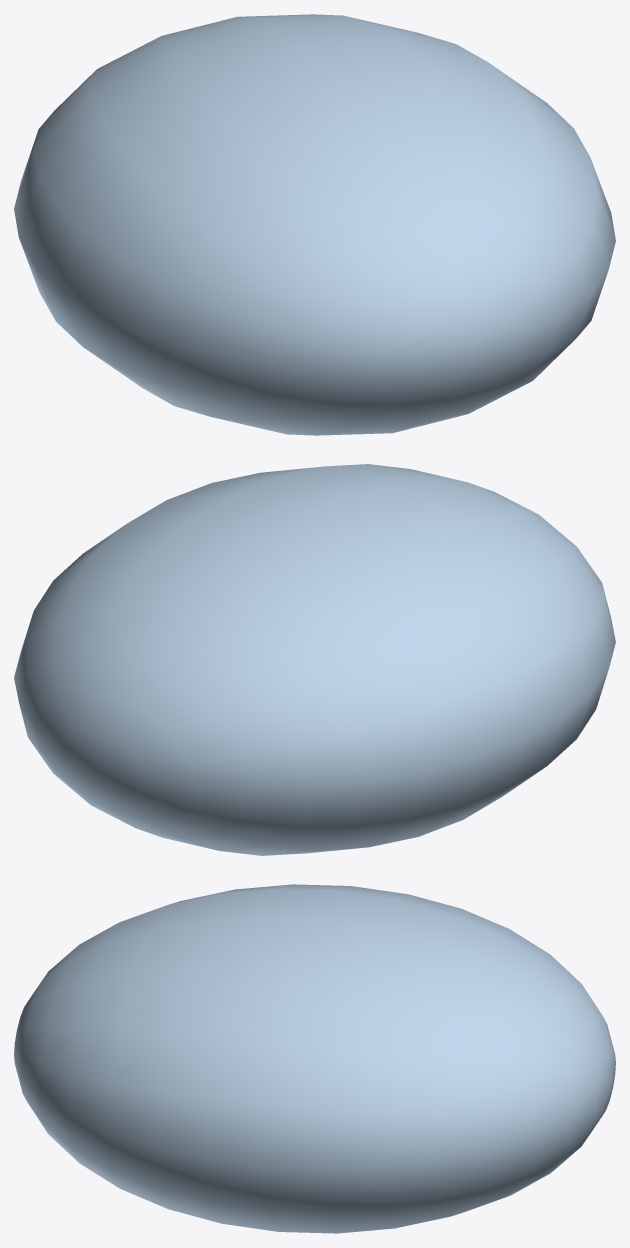
Rendered from pebble_nocam.fbx.
3 renders of one model, top to bottom at view 1: azimuth 30°, elevation 25°; view 2: azimuth 150°, elevation 25°; view 3: azimuth 270°, elevation 25°, orthographic. The views are drawn at different scales.
Parts seen in each view (by area): view 1: Sphere; view 2: Sphere; view 3: Sphere.
Part boxes in pixels (box(x1,y1,x2,y2)): Sphere: box(14, 14, 615, 435); Sphere: box(14, 464, 615, 855); Sphere: box(14, 884, 615, 1233).
Bounding box in the file's own units: 121 × 70 × 139.
